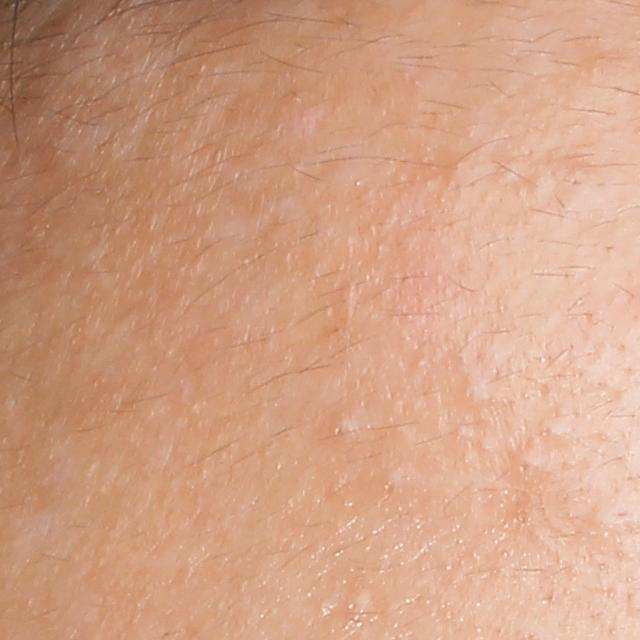comedo: (573, 491, 635, 554), (497, 441, 553, 499), (323, 409, 365, 448), (455, 371, 492, 410), (377, 462, 407, 496)
